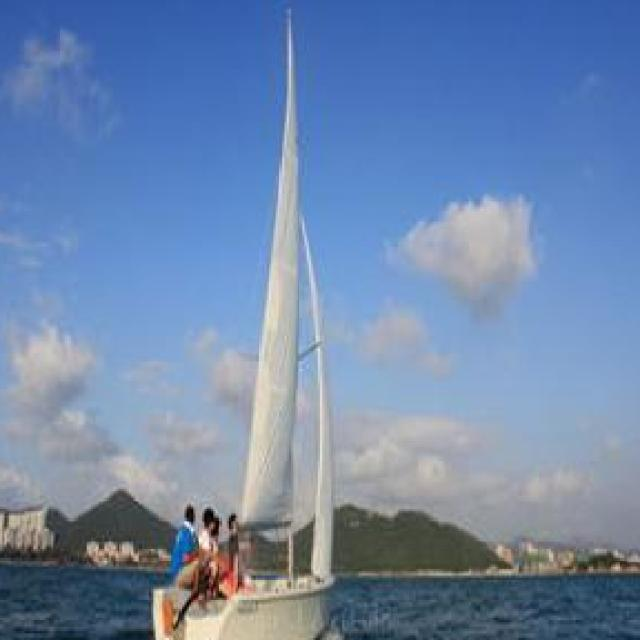sailboat: (144, 2, 356, 640)
